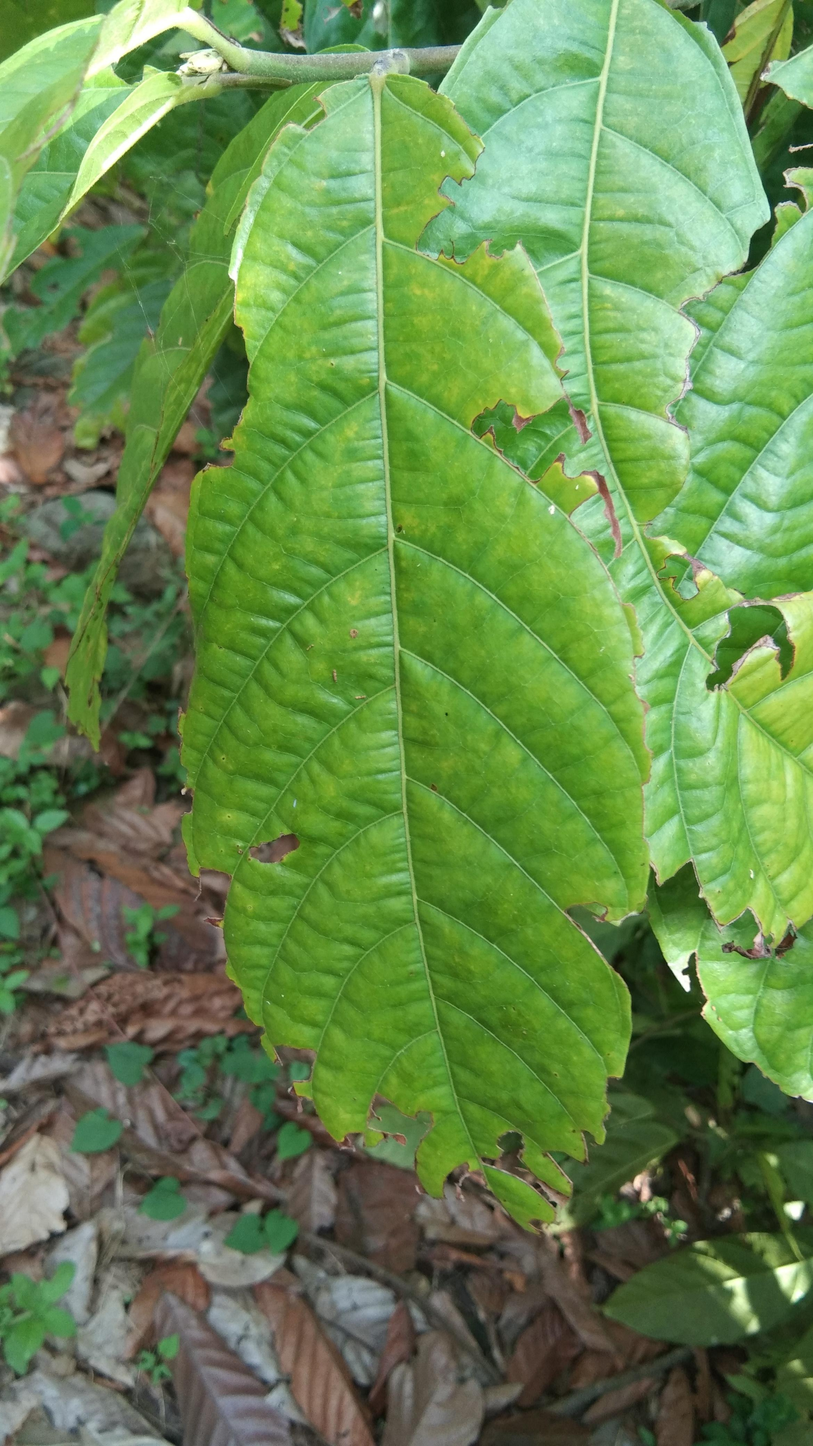deficiencia_potasio: (159, 22, 682, 1256)
